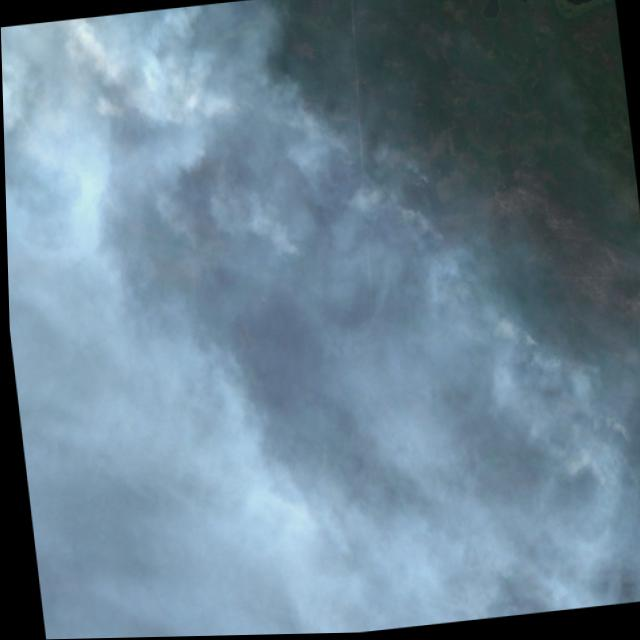fire: (247, 57, 362, 183), (256, 200, 309, 281), (417, 210, 450, 258), (401, 160, 429, 196)
